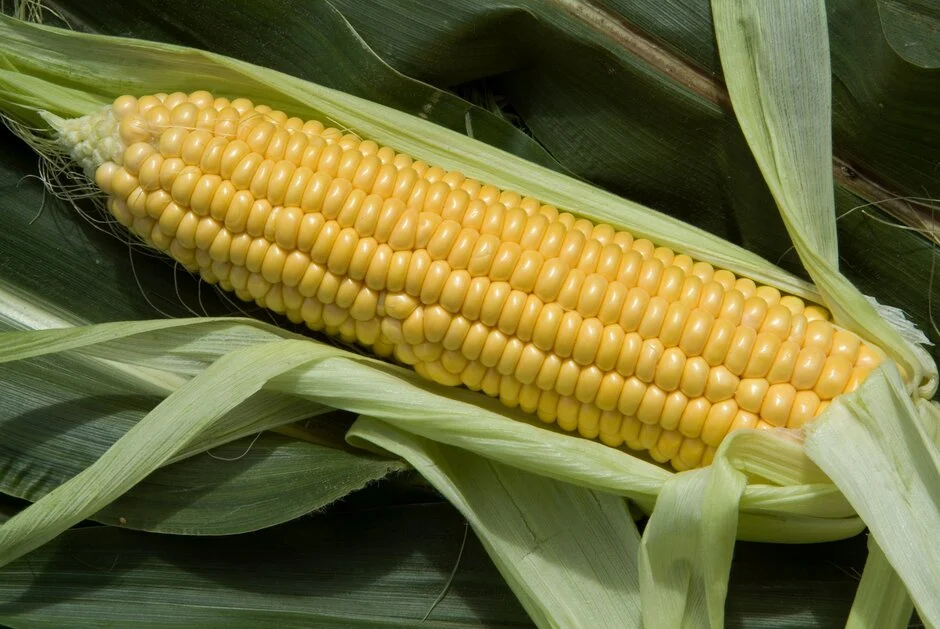corn: (54, 72, 911, 538)
